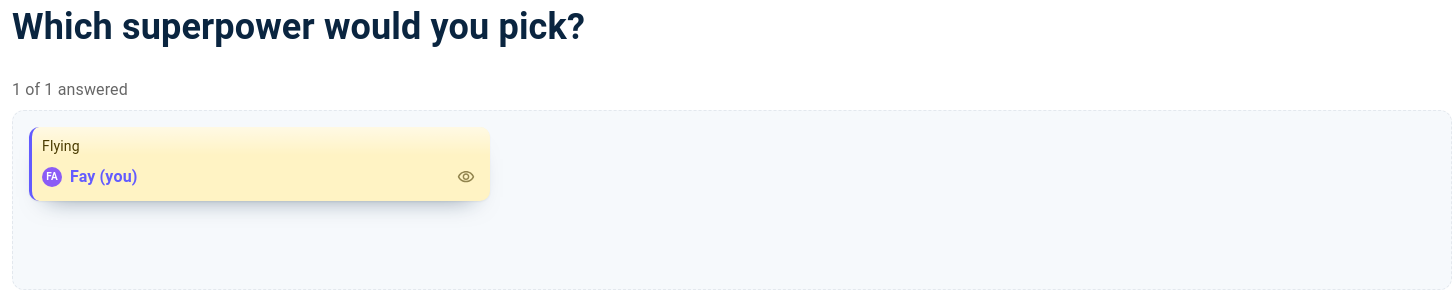
Test: IcebreakerStep › edits mine from a click in the zone once I have one, and drops the hint
Click the element named "Answers": (732, 200) [12, 110, 1451, 290]
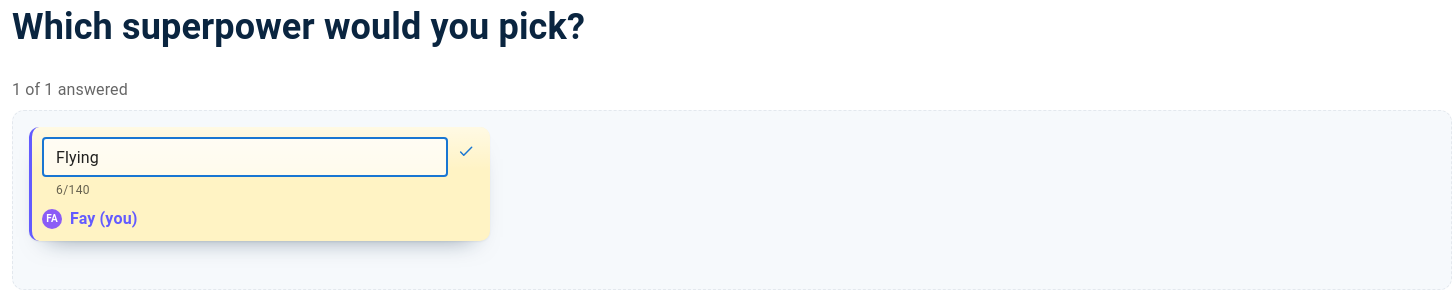
expect the text box named "Your answer" holds "Flying": met, box [56, 146, 434, 168]
expect the number of text boxes is 1: met, box [56, 146, 434, 168]
